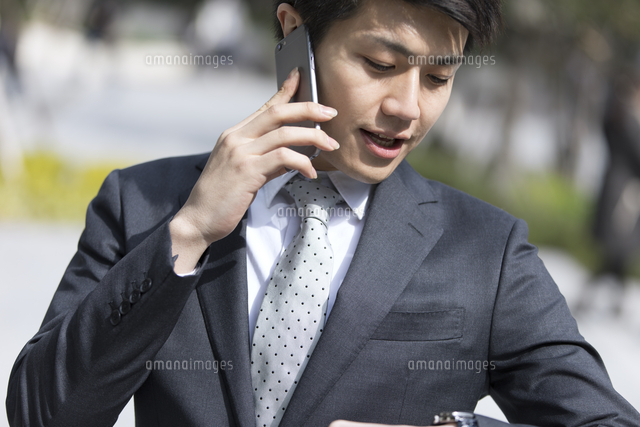phone: (253, 28, 327, 154)
talk: (194, 17, 459, 263)
